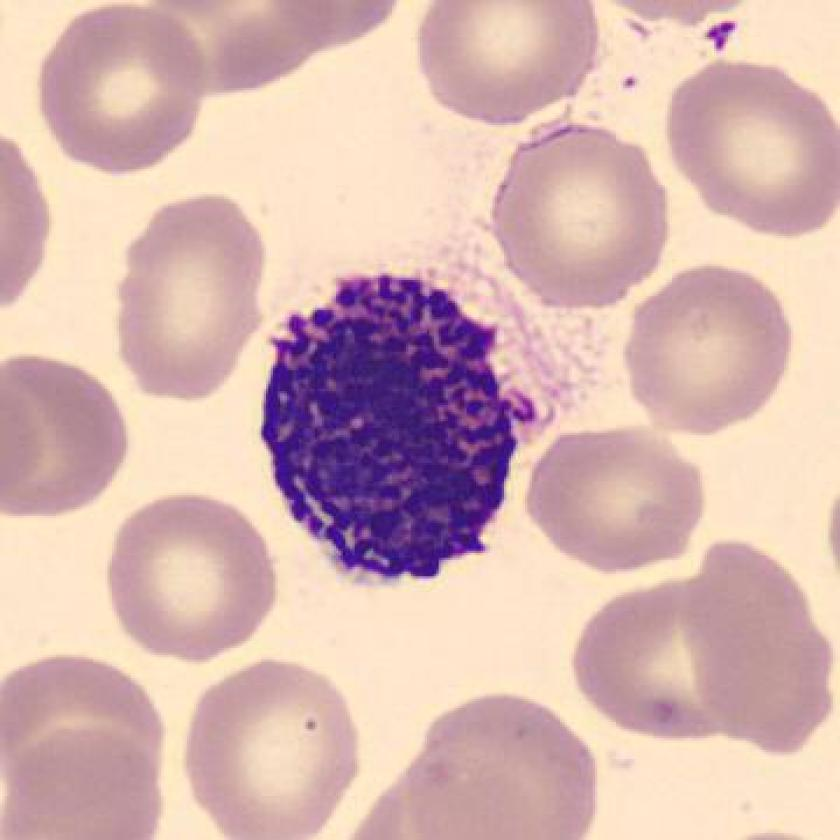basophil: (246, 267, 531, 598)
